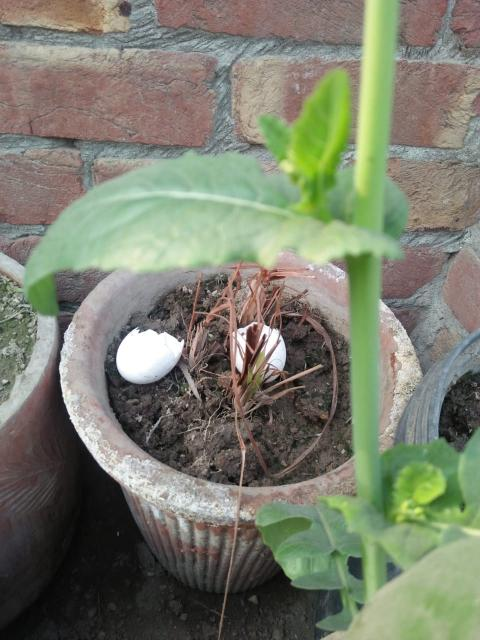Roto: (116, 326, 188, 384), (229, 321, 286, 384)
